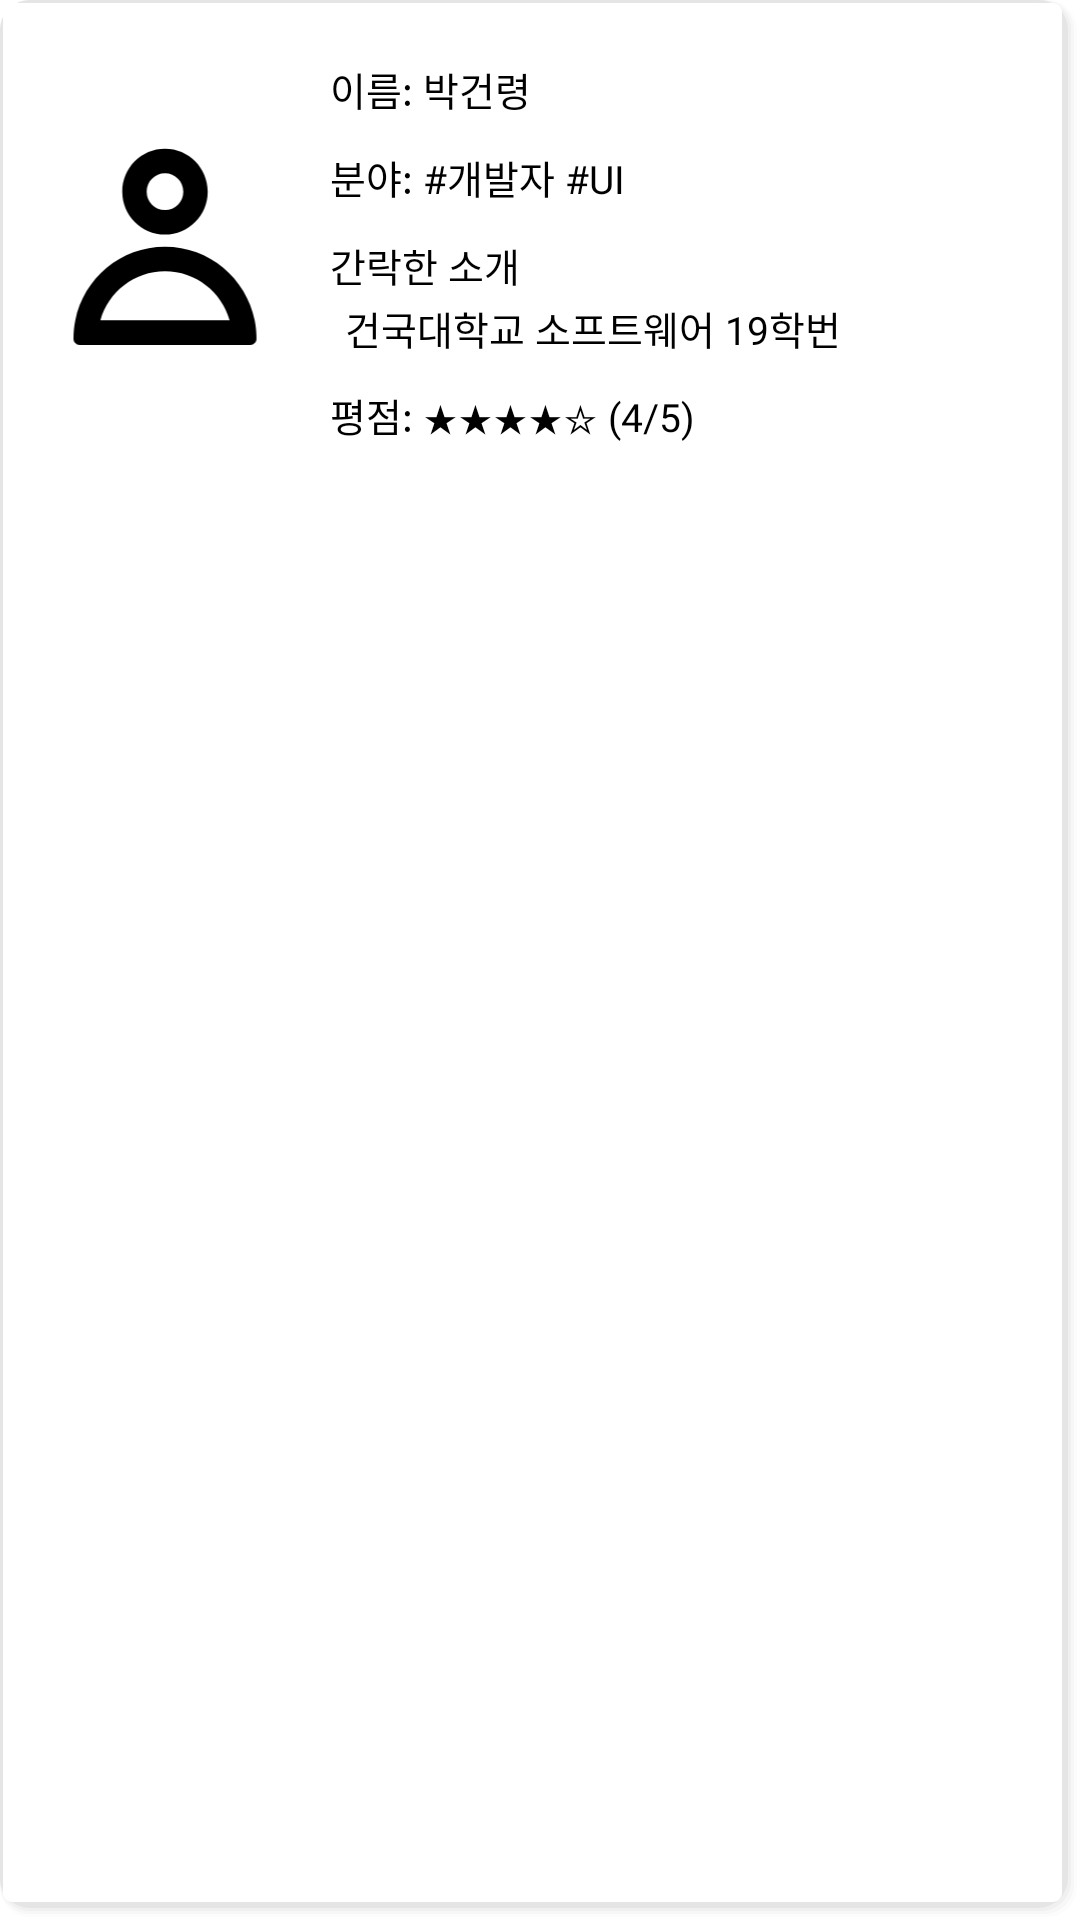

Screen size 1080w x 1920h. Icon name, then its box in pixels as (x1, y1, x2, y2):
profile: (73, 148, 257, 345)
